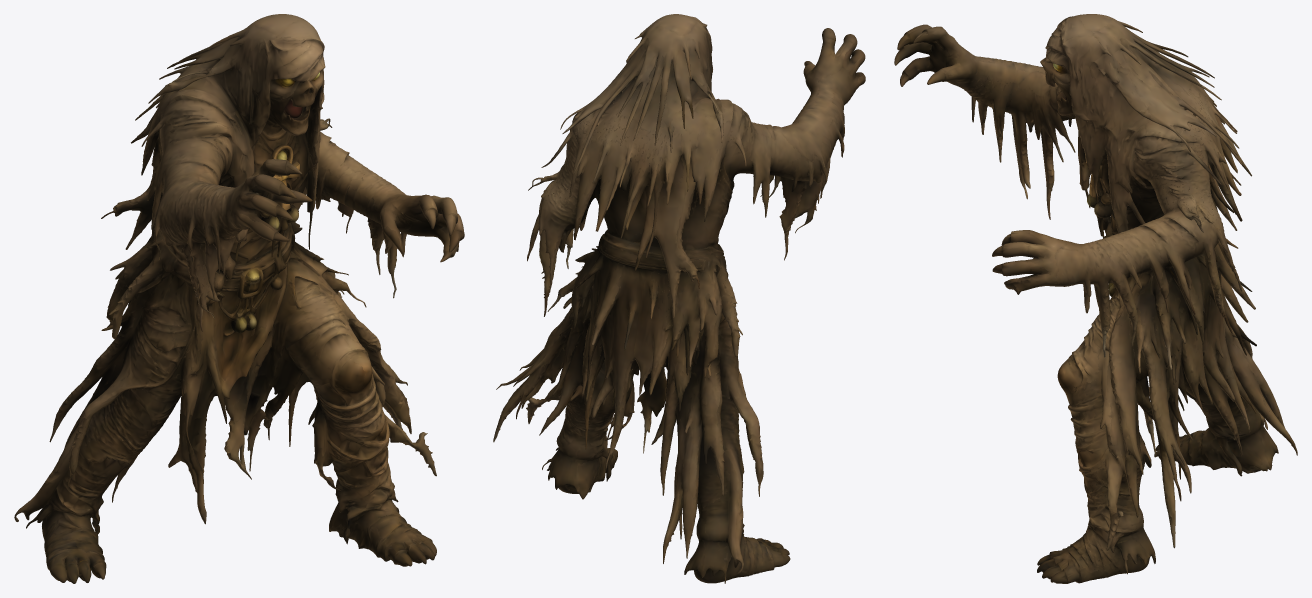
The model's file is mummy.glb.
3 renders of one model, left to right at view 1: azimuth 30°, elevation 25°; view 2: azimuth 150°, elevation 25°; view 3: azimuth 270°, elevation 25°, orthographic. The views are drawn at different scales.
Visible parts, largest first — view 1: material; view 2: material; view 3: material.
Part boxes in pixels (x1,y1,x2,y2): material: [14, 14, 464, 583]; material: [493, 14, 865, 583]; material: [894, 14, 1297, 583].
Size of the model in its own units: 0.6108 by 0.935 by 0.6738.
1 material, 1 textured.
